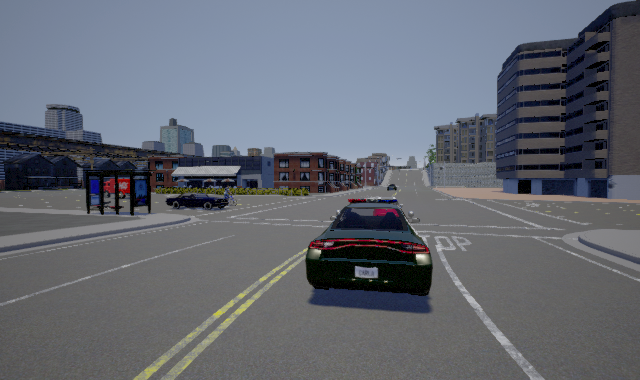bike: (221, 186, 238, 205)
vehicle: (305, 197, 433, 296), (165, 193, 235, 210)
